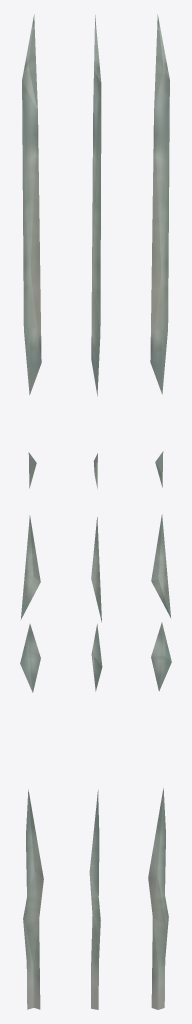
File: Tile_+011_+009_L20_000000140.glb
3 renders of one model, left to right at view 1: azimuth 90°, elevation 25°; view 2: azimuth 210°, elevation 25°; view 3: azimuth 270°, elevation 25°, orthographic.
Visible parts, largest first — view 1: rtc; view 2: rtc; view 3: rtc.
Part boxes in pixels (x1,y1,x2,y2): rtc: (20, 14, 43, 1009); rtc: (89, 15, 102, 1009); rtc: (148, 14, 171, 1009).
Bounding box in the file's own units: 0.1486 × 25.1 × 0.5437.
1 material, 1 textured.
